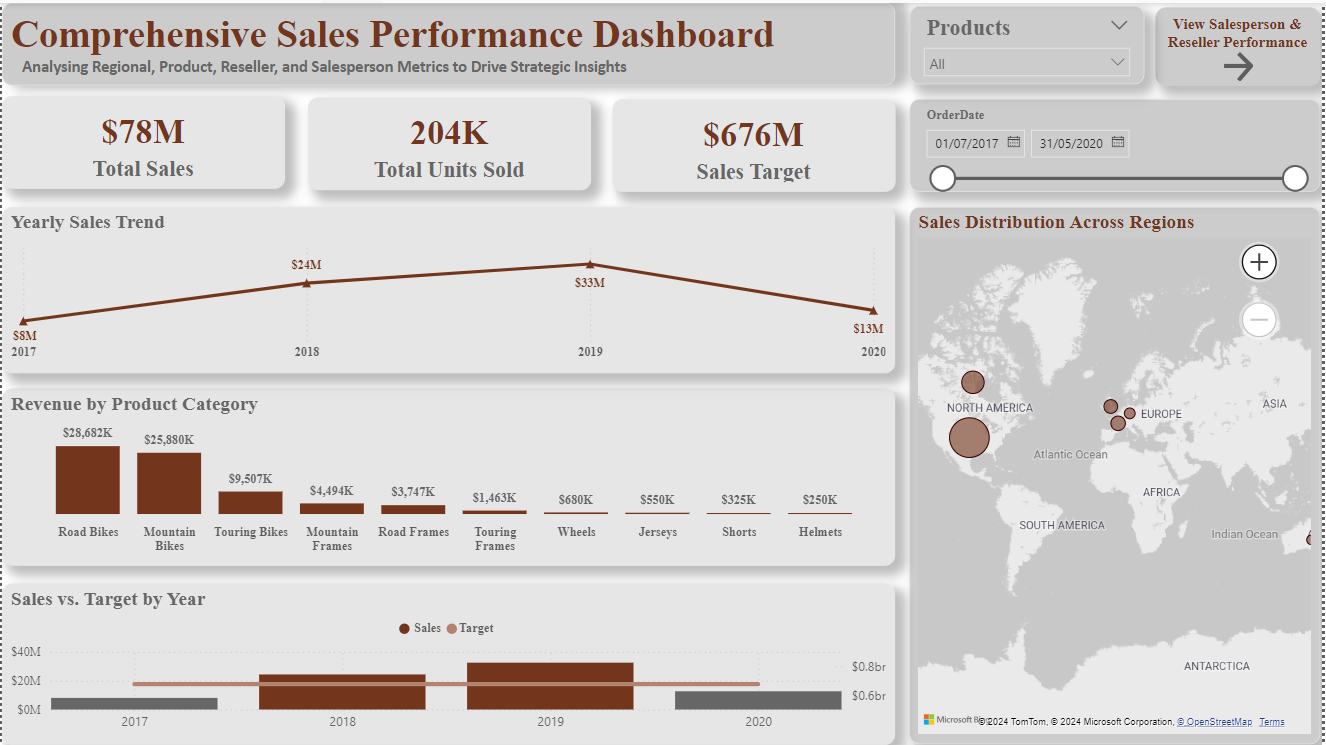

The dashboard page shown, as its layout file describes it:
{"tool":"powerbi","page":{"name":"Sales Overview","canvas":[1280,720],"ordinal":0},"visuals":[{"type":"textbox","box":[0,0,866.8,79.7],"z":0},{"type":"card","fields":{"Values":["Sum(Sales.Sales)"]},"box":[0,90,274.5,90],"z":1000},{"type":"card","fields":{"Values":["Sum(Sales.Quantity)"]},"box":[296.2,91.5,274.5,90],"z":2000},{"type":"card","fields":{"Values":["Sum(Targets.Target)"]},"box":[592.4,93.1,274.5,90],"z":3000},{"type":"map","title":"Sales Distribution Across Regions","fields":{"Size":["Sum(Sales.Sales)"],"Category":["Region.Country","Region.Region"]},"box":[880.9,198.5,398.6,521.1],"z":4000},{"type":"columnChart","title":"Revenue by Product Category","fields":{"Y":["Sum(Sales.Sales)"],"Category":["Product.Subcategory","Product.Product"]},"box":[0,373.8,867,172.1],"z":5000},{"type":"lineChart","title":"Yearly Sales Trend","fields":{"Y":["Sum(Sales.Sales)"],"Category":["Sales.OrderDate.Variation.Date Hierarchy.Year","Sales.OrderDate.Variation.Date Hierarchy.Quarter","Sales.OrderDate.Variation.Date Hierarchy.Month","Sales.OrderDate.Variation.Date Hierarchy.Day"]},"box":[0,198.5,867,161.3],"z":6000},{"type":"actionButton","title":"View Salesperson & Reseller Performance","box":[1119.7,4.7,159.7,76],"z":7000},{"type":"lineClusteredColumnComboChart","title":"Sales vs. Target by Year","fields":{"Y":["Sum(Sales.Sales)"],"Category":["Sales.OrderDate.Variation.Date Hierarchy.Year","Sales.OrderDate.Variation.Date Hierarchy.Quarter","Sales.OrderDate.Variation.Date Hierarchy.Month","Sales.OrderDate.Variation.Date Hierarchy.Day"],"Y2":["Sum(Targets.Target)"]},"box":[0,563,867,156.6],"z":8000},{"type":"slicer","fields":{"Values":["Sales.OrderDate"]},"box":[880.6,93.2,398.8,90.2],"z":9000},{"type":"slicer","fields":{"Values":["Product.Subcategory"]},"box":[880.9,3.1,228,76],"z":10000}]}

Visuals, with their boxes in screenshot pixels (x1, y1, x2, y2), scaled from the page's 1280x720 canvas onto the 1326x745 screenshot:
textbox: region(0, 0, 898, 82)
card - Sum(Sales.Sales): region(0, 93, 284, 186)
card - Sum(Sales.Quantity): region(307, 95, 591, 188)
card - Sum(Targets.Target): region(614, 96, 898, 189)
"Sales Distribution Across Regions" map: region(913, 205, 1325, 744)
"Revenue by Product Category" columnChart: region(0, 387, 898, 565)
"Yearly Sales Trend" lineChart: region(0, 205, 898, 372)
"View Salesperson & Reseller Performance" actionButton: region(1160, 5, 1325, 84)
"Sales vs. Target by Year" lineClusteredColumnComboChart: region(0, 583, 898, 744)
slicer - Sales.OrderDate: region(912, 96, 1325, 190)
slicer - Product.Subcategory: region(913, 3, 1149, 82)
